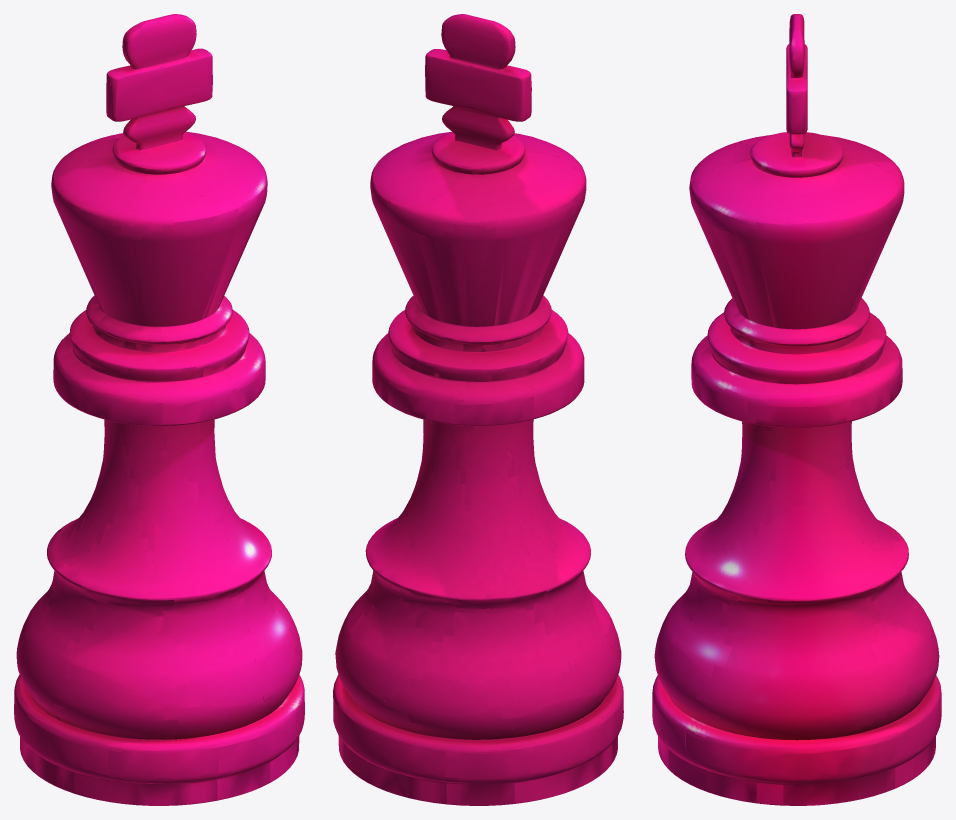
File: king.glb
The picture shows the model from 3 angles, left to right: view 1: azimuth 30°, elevation 25°; view 2: azimuth 150°, elevation 25°; view 3: azimuth 270°, elevation 25°; orthographic projection.
Visible parts, largest first — view 1: Object001.004; view 2: Object001.004; view 3: Object001.004.
Boxes of the visible parts, box(x1,y1,x2,y2) form: Object001.004: box(14, 14, 304, 805); Object001.004: box(333, 14, 623, 805); Object001.004: box(652, 14, 941, 805).
Bounding box in the file's own units: 4.38 × 12.1 × 4.38.
1 material, 1 textured.
